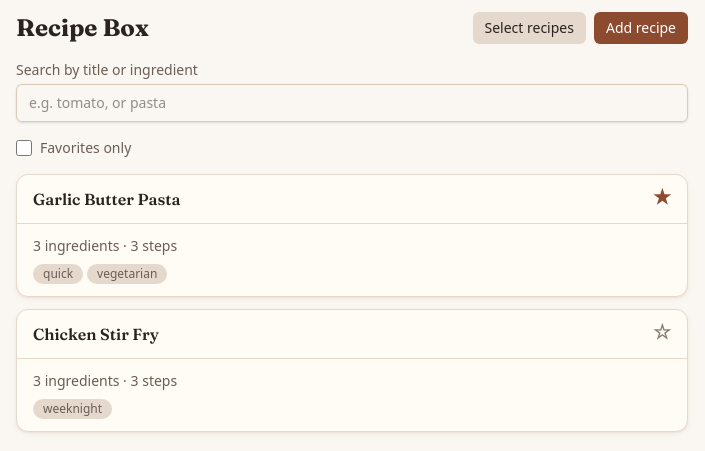
Test: RecipeBox (against the typed mock, per TEST-155 AC5) › filters by ingredient even when the term is not in any title (AC3)
Expected: the text "Chicken Stir Fry" is shown, [33,322,159,346]
Type "soy sauce" into the field labelled "Search by title or ingredient". click: (352, 103)
box: [16,84,688,122]
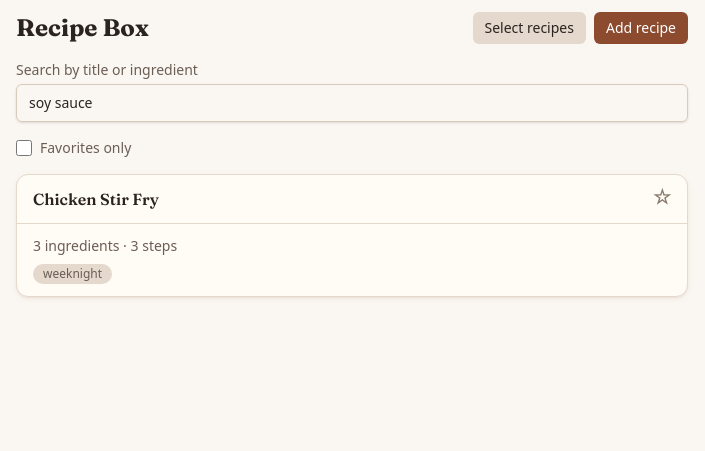
Expected: the text "Chicken Stir Fry" is shown, [33,187,159,211]
Result: the link "Garlic Butter Pasta" is gone
